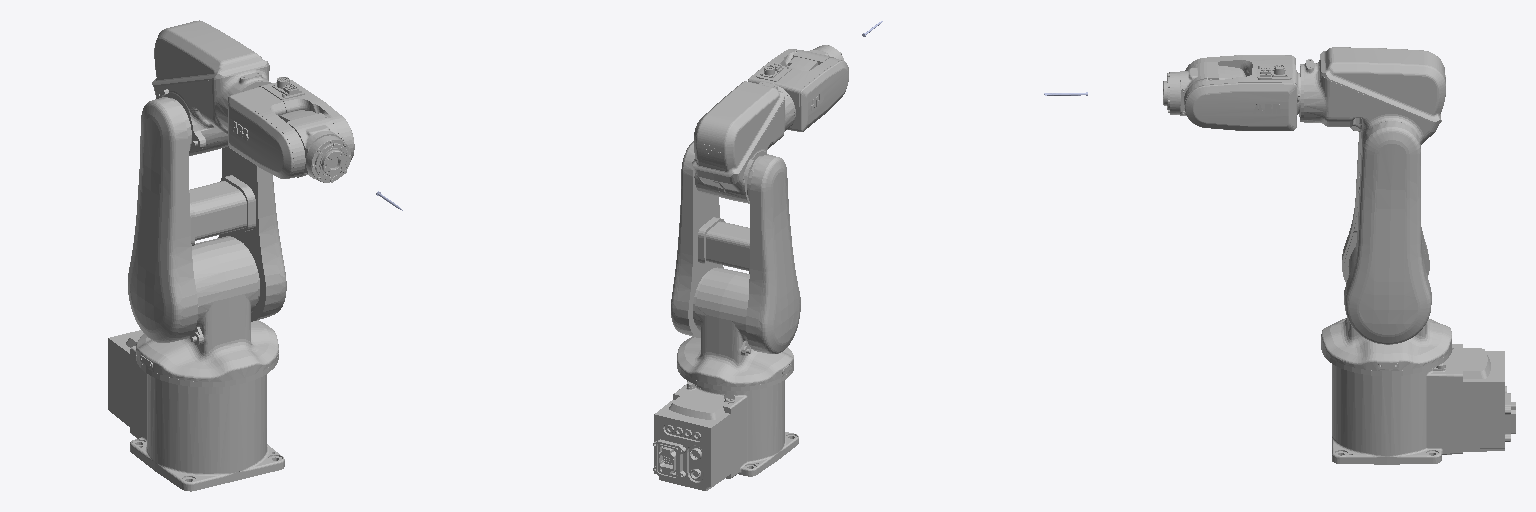
The robot description file, URDF, robot "abb_irb_sim_v2":
<?xml version="1.0" encoding="utf-8" ?>
<!-- This URDF was automatically created by SolidWorks to URDF Exporter! Originally created by [author] ([email redacted]) 
     Commit Version: 1.6.0-4-g7f85cfe  Build Version: 1.6.7995.38578
     For more information, please see http://wiki.ros.org/sw_urdf_exporter -->
<robot name="abb_irb_sim_v2">
    <link name="base_link">
        <inertial>
            <origin xyz="8.0125E-05 0.079637 -0.042039" rpy="0 0 0" />
            <mass value="6.215" />
            <inertia ixx="0.027034" ixy="5.643E-06" ixz="2.5783E-05" iyy="0.025199" iyz="-0.00023168" izz="0.024621" />
        </inertial>
        <visual>
            <origin xyz="0 0 0" rpy="0 0 0" />
            <geometry>
                <mesh filename="package://abb_irb_sim_v2/meshes/base_link.STL" />
            </geometry>
            <material name="">
                <color rgba="0.75294 0.75294 0.75294 1" />
            </material>
        </visual>
        <collision>
            <origin xyz="0 0 0" rpy="0 0 0" />
            <geometry>
                <mesh filename="package://abb_irb_sim_v2/meshes/base_link.STL" />
            </geometry>
        </collision>
    </link>
    <link name="link1">
        <inertial>
            <origin xyz="9.7628E-05 0.083412 0.00011931" rpy="0 0 0" />
            <mass value="3.067" />
            <inertia ixx="0.012269" ixy="3.8445E-08" ixz="7.1775E-08" iyy="0.01042" iyz="1.0259E-05" izz="0.012436" />
        </inertial>
        <visual>
            <origin xyz="0 0 0" rpy="0 0 0" />
            <geometry>
                <mesh filename="package://abb_irb_sim_v2/meshes/link1.STL" />
            </geometry>
            <material name="">
                <color rgba="0.75294 0.75294 0.75294 1" />
            </material>
        </visual>
        <collision>
            <origin xyz="0 0 0" rpy="0 0 0" />
            <geometry>
                <mesh filename="package://abb_irb_sim_v2/meshes/link1.STL" />
            </geometry>
        </collision>
    </link>
    <joint name="joint1" type="revolute">
        <origin xyz="0 0 0.155" rpy="1.5708 0 -1.5446" />
        <parent link="base_link" />
        <child link="link1" />
        <axis xyz="0 1 0" />
        <limit effort="1000" lower="-2.8797932658" upper="2.8797932658" velocity="4.36332313" />
    </joint>
    <link name="link2">
        <inertial>
            <origin xyz="0.00077828 0.10124 0.002117" rpy="0 0 0" />
            <mass value="3.9087" />
            <inertia ixx="0.038127" ixy="-2.3788E-07" ixz="-6.4579E-07" iyy="0.0047265" iyz="2.4476E-05" izz="0.040578" />
        </inertial>
        <visual>
            <origin xyz="0 0 0" rpy="0 0 0" />
            <geometry>
                <mesh filename="package://abb_irb_sim_v2/meshes/link2.STL" />
            </geometry>
            <material name="">
                <color rgba="0.75294 0.75294 0.75294 1" />
            </material>
        </visual>
        <collision>
            <origin xyz="0 0 0" rpy="0 0 0" />
            <geometry>
                <mesh filename="package://abb_irb_sim_v2/meshes/link2.STL" />
            </geometry>
        </collision>
    </link>
    <joint name="joint2" type="revolute">
        <origin xyz="0 0.135 0" rpy="0 0 0.021965" />
        <parent link="link1" />
        <child link="link2" />
        <axis xyz="0 0 1" />
        <limit effort="1000" lower="-1.9198621772" upper="1.9198621772" velocity="4.36332313" />
    </joint>
    <link name="link3">
        <inertial>
            <origin xyz="0.022808 0.057911 -0.0010643" rpy="0 0 0" />
            <mass value="2.9437" />
            <inertia ixx="0.0056396" ixy="-0.0031992" ixz="-0.00012136" iyy="0.0109" iyz="-0.00011295" izz="0.012202" />
        </inertial>
        <visual>
            <origin xyz="0 0 0" rpy="0 0 0" />
            <geometry>
                <mesh filename="package://abb_irb_sim_v2/meshes/link3.STL" />
            </geometry>
            <material name="">
                <color rgba="0.75294 0.75294 0.75294 1" />
            </material>
        </visual>
        <collision>
            <origin xyz="0 0 0" rpy="0 0 0" />
            <geometry>
                <mesh filename="package://abb_irb_sim_v2/meshes/link3.STL" />
            </geometry>
        </collision>
    </link>
    <joint name="joint3" type="revolute">
        <origin xyz="0 0.27 0" rpy="0 0 -0.005539" />
        <parent link="link2" />
        <child link="link3" />
        <axis xyz="0 0 1" />
        <limit effort="1000" lower="-1.9198621772" upper="1.2217304764" velocity="4.36332313" />	
    </joint>
    <link name="link4">
        <inertial>
            <origin xyz="0.081241 0.00040558 -0.00015344" rpy="0 0 0" />
            <mass value="1.3279" />
            <inertia ixx="0.0010444" ixy="5.6973E-06" ixz="4.6406E-05" iyy="0.0033558" iyz="-8.382E-07" izz="0.0038844" />
        </inertial>
        <visual>
            <origin xyz="0 0 0" rpy="0 0 0" />
            <geometry>
                <mesh filename="package://abb_irb_sim_v2/meshes/link4.STL" />
            </geometry>
            <material name="">
                <color rgba="0.75294 0.75294 0.75294 1" />
            </material>
        </visual>
        <collision>
            <origin xyz="0 0 0" rpy="0 0 0" />
            <geometry>
                <mesh filename="package://abb_irb_sim_v2/meshes/link4.STL" />
            </geometry>
        </collision>
    </link>
    <joint name="joint4" type="revolute">
        <origin xyz="0.14346 0.07 0" rpy="7.0345E-05 0 0" />
        <parent link="link3" />
        <child link="link4" />
        <axis xyz="1 0 0" />
        <limit effort="1000" lower="-2.7925268032" upper="2.7925268032" velocity="5.5850536064" />
    </joint>
    <link name="link5">
        <inertial>
            <origin xyz="-0.001095 6.2236E-05 -3.6872E-05" rpy="0 0 0" />
            <mass value="0.54663" />
            <inertia ixx="0.00040458" ixy="-4.2555E-07" ixz="1.8448E-06" iyy="0.00029001" iyz="-8.6564E-09" izz="0.00036748" />
        </inertial>
        <visual>
            <origin xyz="0 0 0" rpy="0 0 0" />
            <geometry>
                <mesh filename="package://abb_irb_sim_v2/meshes/link5.STL" />
            </geometry>
            <material name="">
                <color rgba="0.75294 0.75294 0.75294 1" />
            </material>
        </visual>
        <collision>
            <origin xyz="0 0 0" rpy="0 0 0" />
            <geometry>
                <mesh filename="package://abb_irb_sim_v2/meshes/link5.STL" />
            </geometry>
        </collision>
    </link>
    <joint name="joint5" type="revolute">
        <origin xyz="0.15854 0 0" rpy="0 0 -0.016426" />
        <parent link="link4" />
        <child link="link5" />
        <axis xyz="0 0 1" />
        <limit effort="1000" lower="-2.0943951024" upper="2.0943951024" velocity="5.5850536064"/>
    </joint>
    <link name="link6">
        <inertial>
            <origin xyz="-1.3237E-06 0.00016958 0.0069846" rpy="0 0 0" />
            <mass value="0.013678" />
            <inertia ixx="1.6577E-06" ixy="-3.0637E-12" ixz="8.915E-11" iyy="1.6943E-06" iyz="-7.6625E-09" izz="2.9768E-06" />
        </inertial>
        <visual>
            <origin xyz="0 0 0" rpy="0 0 0" />
            <geometry>
                <mesh filename="package://abb_irb_sim_v2/meshes/link6.STL" />
            </geometry>
            <material name="">
                <color rgba="0.75294 0.75294 0.75294 1" />
            </material>
        </visual>
        <collision>
            <origin xyz="0 0 0" rpy="0 0 0" />
            <geometry>
                <mesh filename="package://abb_irb_sim_v2/meshes/link6.STL" />
            </geometry>
        </collision>
    </link>
    <joint name="joint6" type="revolute">
        <origin xyz="0.057953 0 0" rpy="-1.5708 -7.0335E-05 -1.5708" />
        <parent link="link5" />
        <child link="link6" />
        <axis xyz="0 0 1" />
        <limit effort="1000" lower="-6.981317008" upper="6.981317008" velocity="7.3303828584" />
    </joint>
    <link name="fixed_sys">
        <inertial>
            <origin xyz="0.00089725 0.01851 -0.060073" rpy="0 0 0" />
            <mass value="0.51901" />
            <inertia ixx="0.00036548" ixy="1.6959E-06" ixz="-6.2933E-06" iyy="0.00040991" iyz="2.2459E-05" izz="0.00030992" />
        </inertial>
        <visual>
            <origin xyz="0 0 0" rpy="0 0 0" />
            <geometry>
                <mesh filename="package://abb_irb_sim_v2/meshes/fixed_sys.STL" />
            </geometry>
            <material name="">
                <color rgba="0.75294 0.75294 0.75294 1" />
            </material>
        </visual>
        <collision>
            <origin xyz="0 0 0" rpy="0 0 0" />
            <geometry>
                <mesh filename="package://abb_irb_sim_v2/meshes/fixed_sys.STL" />
            </geometry>
        </collision>
    </link>
    <joint name="fixed_joint" type="fixed">
        <origin xyz="0 0 0.014047" rpy="-3.1416 0 -1.5708" />
        <parent link="link6" />
        <child link="fixed_sys" />
        <axis xyz="0 0 0" />
    </joint>
    <link name="screw_drive">
        <inertial>
            <origin xyz="8.1778E-09 -7.8827E-09 -0.030704" rpy="0 0 0" />
            <mass value="0.00090795" />
            <inertia ixx="3.8117E-07" ixy="5.4391E-15" ixz="1.8191E-13" iyy="3.8124E-07" iyz="-1.7852E-13" izz="2.2606E-09" />
        </inertial>
        <visual>
            <origin xyz="0 0 0" rpy="0 0 0" />
            <geometry>
                <mesh filename="package://abb_irb_sim_v2/meshes/screw_drive.STL" />
            </geometry>
            <material name="">
                <color rgba="0.79216 0.81961 0.93333 1" />
            </material>
        </visual>
        <collision>
            <origin xyz="0 0 0" rpy="0 0 0" />
            <geometry>
                <mesh filename="package://abb_irb_sim_v2/meshes/screw_drive.STL" />
            </geometry>
        </collision>
    </link>
    <joint name="drive_joint" type="continuous">
        <origin xyz="0 0 -0.12407" rpy="0 0 0.69934" />
        <parent link="fixed_sys" />
        <child link="screw_drive" />
        <axis xyz="0 0 1" />
    </joint>
    <transmission name="trans_joint1">
        <type>transmission_interface/SimpleTransmission</type>
        <joint name="joint1">
            <hardwareInterface>hardware_interface/PositionJointInterface</hardwareInterface>
        </joint>
        <actuator name="joint1_motor">
            <hardwareInterface>hardware_interface/PositionJointInterface</hardwareInterface>
            <mechanicalReduction>1</mechanicalReduction>
        </actuator>
    </transmission>
    <transmission name="trans_joint2">
        <type>transmission_interface/SimpleTransmission</type>
        <joint name="joint2">
            <hardwareInterface>hardware_interface/PositionJointInterface</hardwareInterface>
        </joint>
        <actuator name="joint2_motor">
            <hardwareInterface>hardware_interface/PositionJointInterface</hardwareInterface>
            <mechanicalReduction>1</mechanicalReduction>
        </actuator>
    </transmission>
    <transmission name="trans_joint3">
        <type>transmission_interface/SimpleTransmission</type>
        <joint name="joint3">
            <hardwareInterface>hardware_interface/PositionJointInterface</hardwareInterface>
        </joint>
        <actuator name="joint3_motor">
            <hardwareInterface>hardware_interface/PositionJointInterface</hardwareInterface>
            <mechanicalReduction>1</mechanicalReduction>
        </actuator>
    </transmission>
    <transmission name="trans_joint4">
        <type>transmission_interface/SimpleTransmission</type>
        <joint name="joint4">
            <hardwareInterface>hardware_interface/PositionJointInterface</hardwareInterface>
        </joint>
        <actuator name="joint4_motor">
            <hardwareInterface>hardware_interface/PositionJointInterface</hardwareInterface>
            <mechanicalReduction>1</mechanicalReduction>
        </actuator>
    </transmission>
    <transmission name="trans_joint5">
        <type>transmission_interface/SimpleTransmission</type>
        <joint name="joint5">
            <hardwareInterface>hardware_interface/PositionJointInterface</hardwareInterface>
        </joint>
        <actuator name="joint5_motor">
            <hardwareInterface>hardware_interface/PositionJointInterface</hardwareInterface>
            <mechanicalReduction>1</mechanicalReduction>
        </actuator>
    </transmission>
    <transmission name="trans_joint6">
        <type>transmission_interface/SimpleTransmission</type>
        <joint name="joint6">
            <hardwareInterface>hardware_interface/PositionJointInterface</hardwareInterface>
        </joint>
        <actuator name="joint6_motor">
            <hardwareInterface>hardware_interface/PositionJointInterface</hardwareInterface>
            <mechanicalReduction>1</mechanicalReduction>
        </actuator>
    </transmission>
    <transmission name="trans_drive_joint">
        <type>transmission_interface/SimpleTransmission</type>
        <joint name="drive_joint">
            <hardwareInterface>hardware_interface/EffortJointInterface</hardwareInterface>
        </joint>
        <actuator name="drive_joint_motor">
            <hardwareInterface>hardware_interface/EffortJointInterface</hardwareInterface>
            <mechanicalReduction>1</mechanicalReduction>
        </actuator>
    </transmission>
    <gazebo>
        <plugin name="gazebo_ros_control">
            <robotNamespace>/</robotNamespace>
        </plugin>
    </gazebo>
</robot>

--- Render facts (derived) ---
The picture shows the robot from 3 angles, left to right: view 1: azimuth 30°, elevation 25°; view 2: azimuth 150°, elevation 25°; view 3: azimuth 270°, elevation 25°; orthographic projection.
Robot: abb_irb_sim_v2 — 9 links, 8 joints (6 revolute, 1 continuous, 1 fixed); root link base_link; default pose: every joint at zero.
Links seen in each view (by area): view 1: link2, base_link, link1, link3, link4, link5; view 2: link2, base_link, link1, link3, link4, link5; view 3: base_link, link2, link3, link4, link1, link5.
Boxes of the visible links, box(x1,y1,x2,y2) form: link2: box(128, 97, 286, 342); base_link: box(108, 330, 284, 491); link1: box(136, 236, 278, 393); link3: box(152, 20, 271, 155); link4: box(228, 77, 354, 178); link5: box(279, 110, 351, 182); link2: box(671, 141, 800, 353); base_link: box(653, 380, 798, 490); link1: box(677, 267, 793, 390); link3: box(692, 81, 795, 203); link4: box(748, 49, 848, 131); link5: box(788, 45, 843, 70); base_link: box(1332, 344, 1515, 464); link2: box(1342, 121, 1431, 344); link3: box(1299, 47, 1445, 144); link4: box(1184, 55, 1300, 130); link1: box(1321, 247, 1451, 375); link5: box(1167, 62, 1245, 115).
Bounding box of the posed robot: 0.2192 × 0.7733 × 0.7011 m (x, y, z).
Meshes: 9 distinct files referenced, 8 mesh visuals loaded (8 binary STL); not drawn: 1 (reference not matched to a file when rendering).